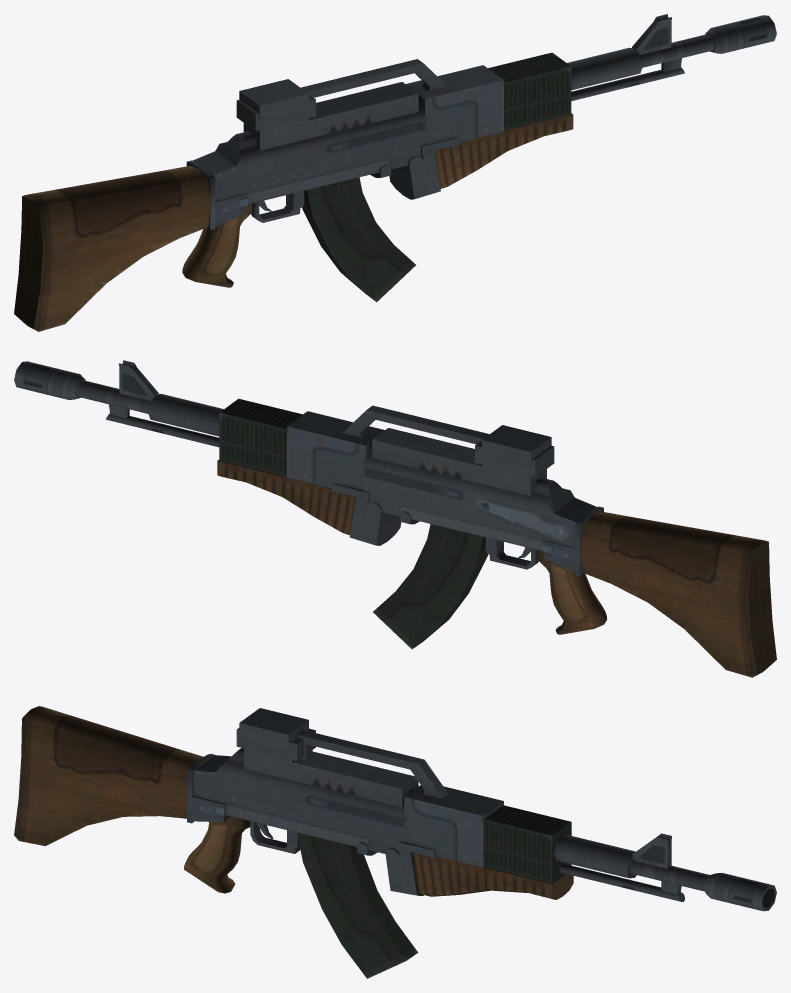
File: int_merc_gun.glb
3 views of the same model, one above another, from view 1: azimuth 30°, elevation 25°; view 2: azimuth 150°, elevation 25°; view 3: azimuth 330°, elevation 25° (orthographic).
Visible parts, largest first — view 1: weapons/int_merc_gun_0; view 2: weapons/int_merc_gun_0; view 3: weapons/int_merc_gun_0.
Boxes of the visible parts, bbox=[...] form: weapons/int_merc_gun_0: bbox=[14, 14, 776, 331]; weapons/int_merc_gun_0: bbox=[14, 360, 776, 677]; weapons/int_merc_gun_0: bbox=[14, 706, 776, 978].
Size of the model in its own units: 2 by 0.5905 by 0.1131.
1 material, 1 textured.
